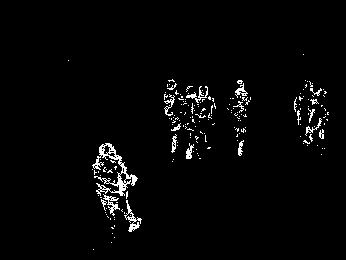person: (92, 142, 142, 233), (226, 80, 253, 157), (163, 77, 184, 156), (197, 84, 216, 152), (309, 87, 329, 146), (183, 84, 197, 162), (294, 80, 310, 144)
